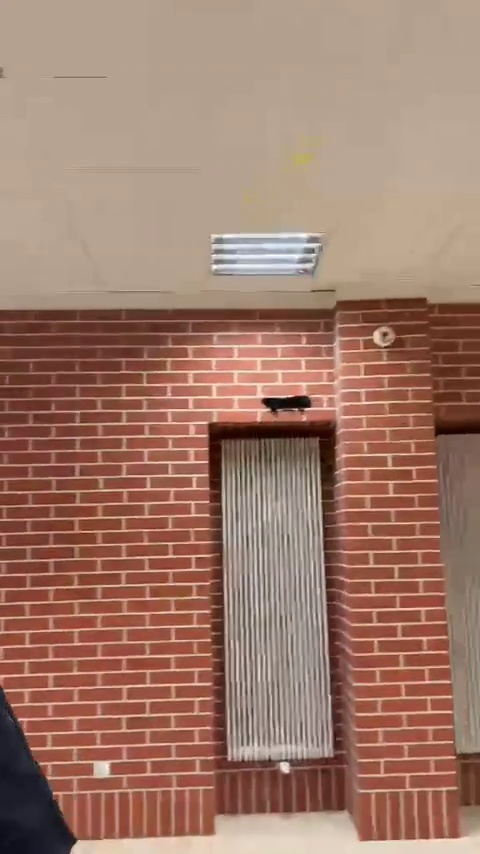drone: (261, 396, 318, 420)
